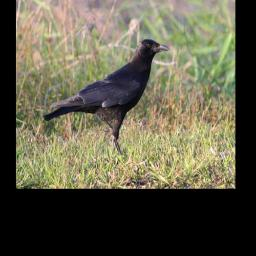Crow: (42, 37, 171, 159)
